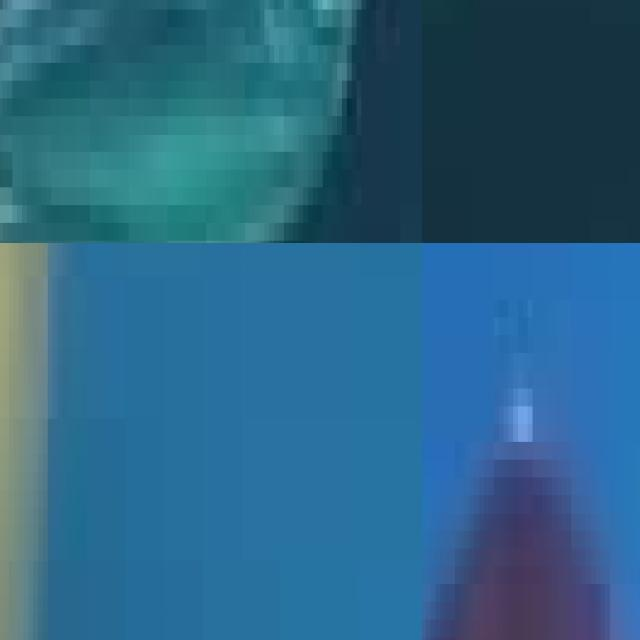fish: (0, 243, 290, 640), (0, 0, 422, 243), (422, 243, 640, 640)
